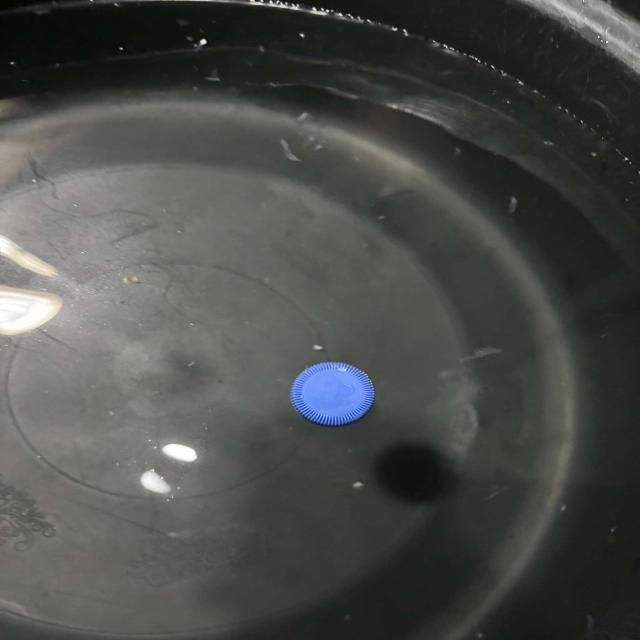Bottle Lid: (274, 350, 395, 438)
